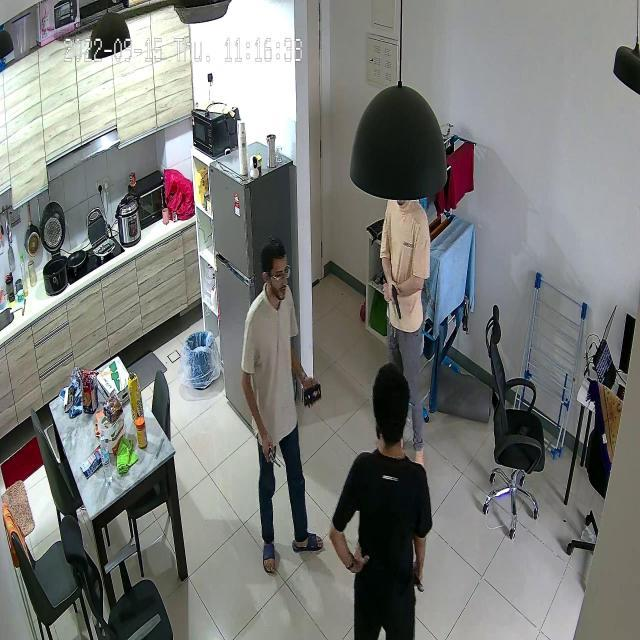Gun: (383, 273, 409, 331)
